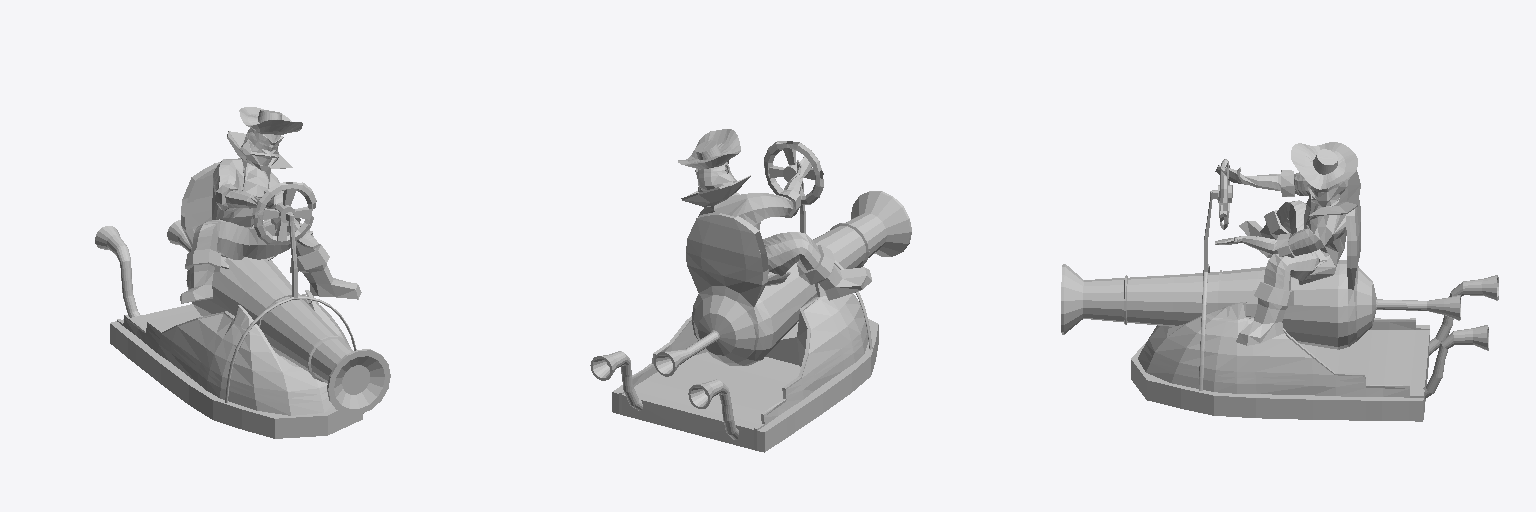
Rendered from pirataGiroDER_000484.obj.
The picture shows the model from 3 angles: view 1: azimuth 30°, elevation 25°; view 2: azimuth 150°, elevation 25°; view 3: azimuth 270°, elevation 25°; orthographic projection.
Parts seen in each view (by area): view 1: carro_pirata, Pirata_PirataH; view 2: carro_pirata, Pirata_PirataH; view 3: carro_pirata, Pirata_PirataH.
Boxes of the visible parts, x1=… form: carro_pirata: x1=95, y1=162, x2=390, y2=438; Pirata_PirataH: x1=180, y1=107, x2=361, y2=303; carro_pirata: x1=590, y1=141, x2=911, y2=452; Pirata_PirataH: x1=678, y1=129, x2=871, y2=300; carro_pirata: x1=1061, y1=159, x2=1498, y2=421; Pirata_PirataH: x1=1215, y1=142, x2=1360, y2=345.
Bounding box in the file's own units: 5.68 × 7.58 × 12.1.